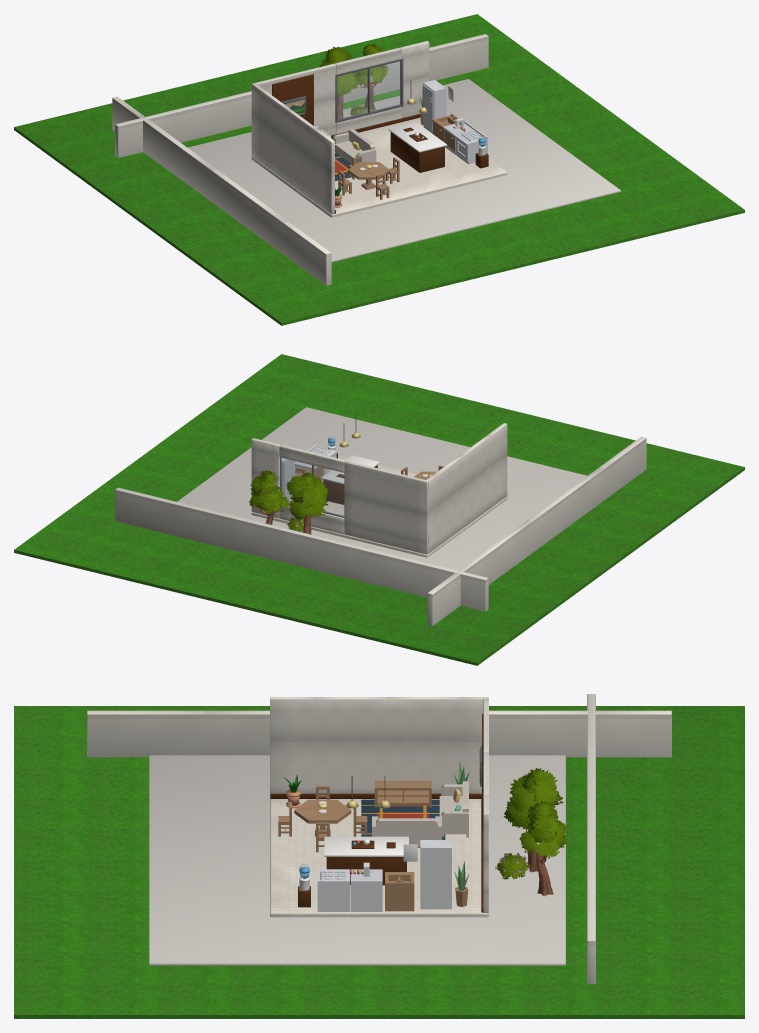
Rendered from room_elite_living.glb.
3 renders of one model, top to bottom at view 1: azimuth 30°, elevation 25°; view 2: azimuth 150°, elevation 25°; view 3: azimuth 270°, elevation 25°, orthographic. The views are drawn at different scales.
Parts seen in each view (by area): view 1: OuterYard, YardPatio, YardWallLeft, YardWallBack, WallLeft, FloorSlab, PanoGlass, WallBack_Left, WallBack_Right, IslandBase, TeakPanelLiving, loungeSofa(Clone).001 (+8 smaller); view 2: OuterYard, YardPatio, YardWallBack, YardWallLeft, WallBack_Left, WallLeft, CommonTree_1, PanoGlass, FloorSlab, CommonTree_2, WallBack_Right, WallBack_Top (+1 smaller); view 3: OuterYard, YardPatio, WallLeft, YardWallLeft, FloorSlab, YardWallBack, CommonTree_2, CommonTree_1, kitchenFridge(Clone), loungeSofa(Clone).001, IslandTop, cabinetTelevision(Clone) (+10 smaller).
Boxes of the visible parts, <box> form: OuterYard: <box>14,14,744,325</box>; YardPatio: <box>187,79,620,262</box>; YardWallLeft: <box>112,96,331,285</box>; YardWallBack: <box>115,34,488,157</box>; WallLeft: <box>251,83,334,214</box>; FloorSlab: <box>251,117,507,217</box>; PanoGlass: <box>337,61,400,119</box>; WallBack_Left: <box>255,63,336,135</box>; WallBack_Right: <box>400,41,429,117</box>; IslandBase: <box>390,132,444,172</box>; TeakPanelLiving: <box>272,74,313,125</box>; loungeSofa(Clone).001: <box>333,129,376,164</box>; OuterYard: <box>14,354,744,665</box>; YardPatio: <box>177,407,587,570</box>; YardWallBack: <box>115,487,488,611</box>; YardWallLeft: <box>427,436,646,625</box>; WallBack_Left: <box>344,460,429,554</box>; WallLeft: <box>424,423,507,554</box>; CommonTree_1: <box>286,472,328,534</box>; PanoGlass: <box>281,458,343,516</box>; FloorSlab: <box>251,455,507,557</box>; CommonTree_2: <box>249,470,288,524</box>; WallBack_Right: <box>251,438,280,518</box>; WallBack_Top: <box>279,445,345,472</box>; OuterYard: <box>14,706,744,1018</box>; YardPatio: <box>149,755,565,965</box>; WallLeft: <box>270,697,488,797</box>; YardWallLeft: <box>87,710,671,757</box>; FloorSlab: <box>270,798,488,917</box>; YardWallBack: <box>587,694,595,983</box>; CommonTree_2: <box>519,801,568,896</box>; CommonTree_1: <box>503,768,563,872</box>; kitchenFridge(Clone): <box>420,840,451,909</box>; loungeSofa(Clone).001: <box>372,816,441,847</box>; IslandTop: <box>324,836,408,856</box>; cabinetTelevision(Clone): <box>374,780,431,807</box>.
Size of the model in its own units: 20 by 3.35 by 20.
49 materials, 13 textured.
